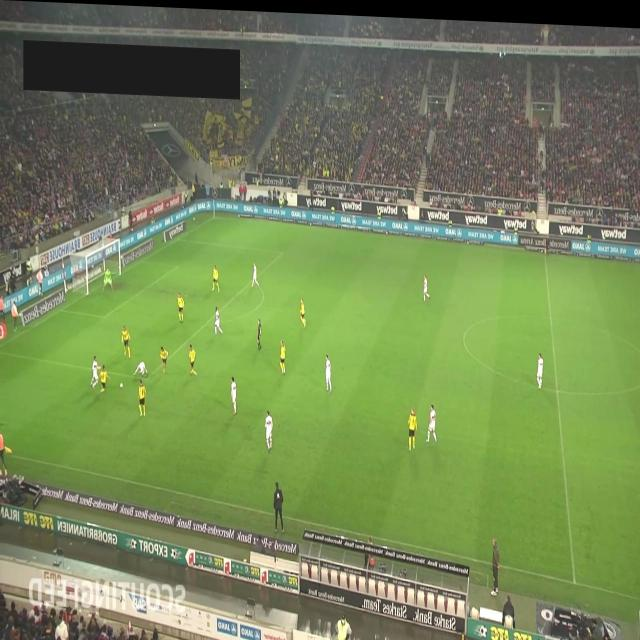goalkeeper: (102, 265, 114, 292)
player: (426, 400, 438, 440), (407, 403, 417, 448), (121, 323, 131, 358), (264, 407, 272, 450), (90, 354, 100, 388), (230, 374, 238, 414), (138, 378, 146, 416), (133, 359, 149, 377), (536, 348, 544, 384), (325, 351, 332, 390), (214, 304, 223, 334), (100, 363, 110, 390), (250, 260, 260, 286), (189, 341, 197, 373), (177, 291, 185, 322), (160, 345, 168, 375), (212, 262, 220, 291), (423, 271, 431, 299), (280, 336, 286, 372), (300, 295, 306, 325)
referee: (0, 432, 12, 476), (256, 316, 262, 348), (544, 228, 550, 252)
